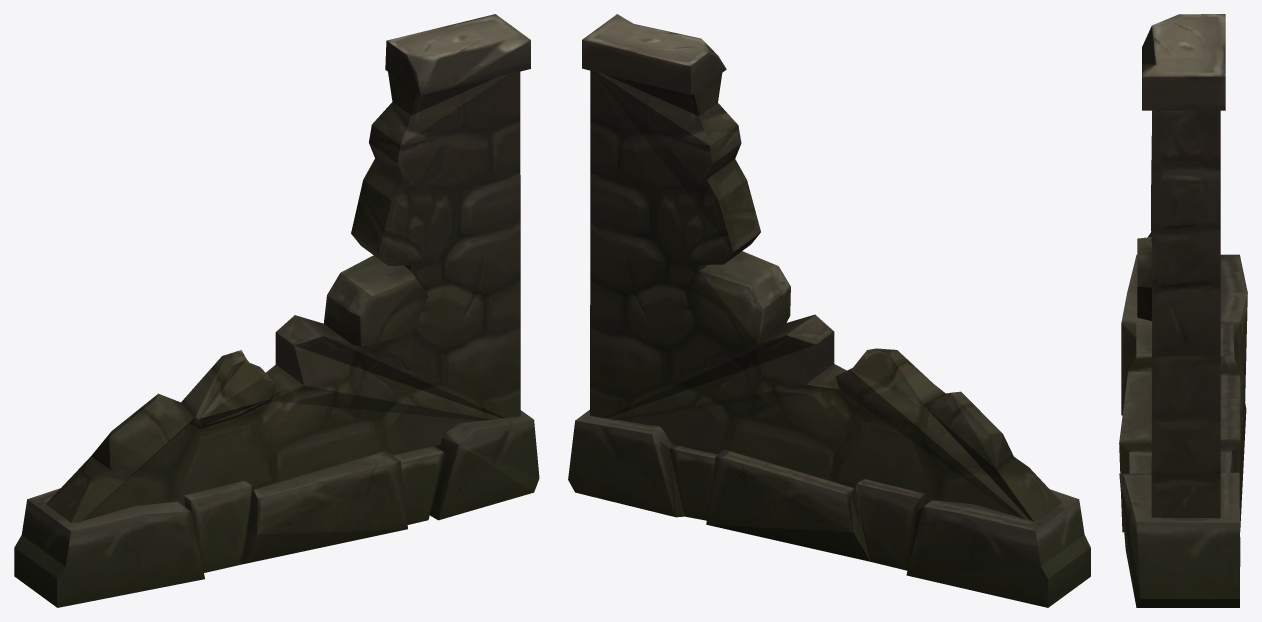
File: humgraveyard_straight_02.fbx
3 renders of one model, left to right at view 1: azimuth 30°, elevation 25°; view 2: azimuth 150°, elevation 25°; view 3: azimuth 270°, elevation 25°, orthographic. The views are drawn at different scales.
Visible parts, largest first — view 1: obj0.507; view 2: obj0.507; view 3: obj0.507.
Part boxes in pixels (box(x1,y1,x2,y2)): obj0.507: box(14, 14, 539, 607); obj0.507: box(568, 14, 1090, 607); obj0.507: box(1119, 14, 1247, 607).
Bounding box in the file's own units: 4.5 × 4.01 × 0.882.
